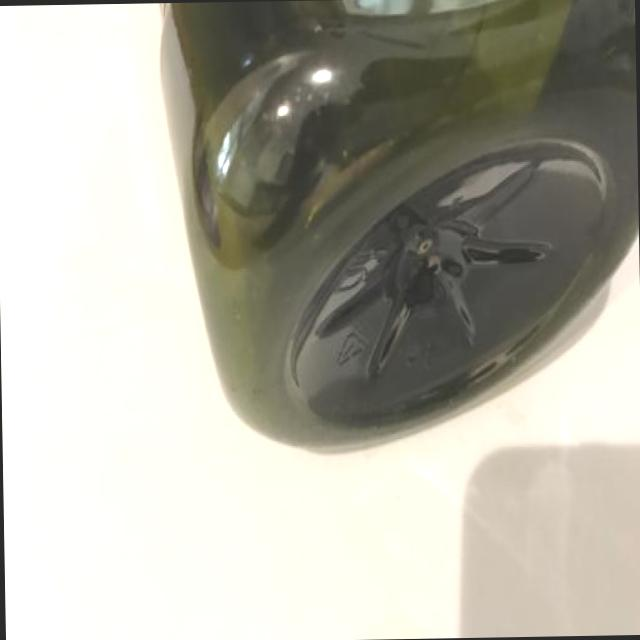Recycle: (154, 0, 640, 460)
